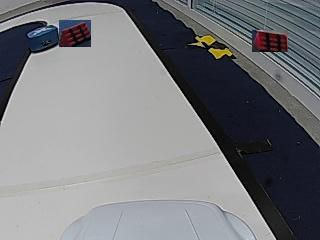prop: (27, 24, 59, 54)
